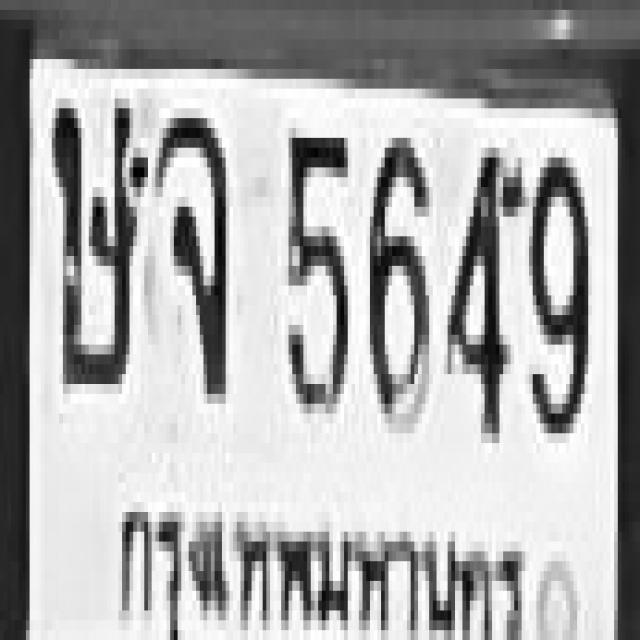-: (48, 89, 141, 384), (153, 108, 224, 394)
4: (442, 133, 516, 428)
5: (285, 118, 344, 404)
6: (366, 123, 426, 409)
9: (526, 148, 584, 433)
BKK: (100, 474, 540, 640)
